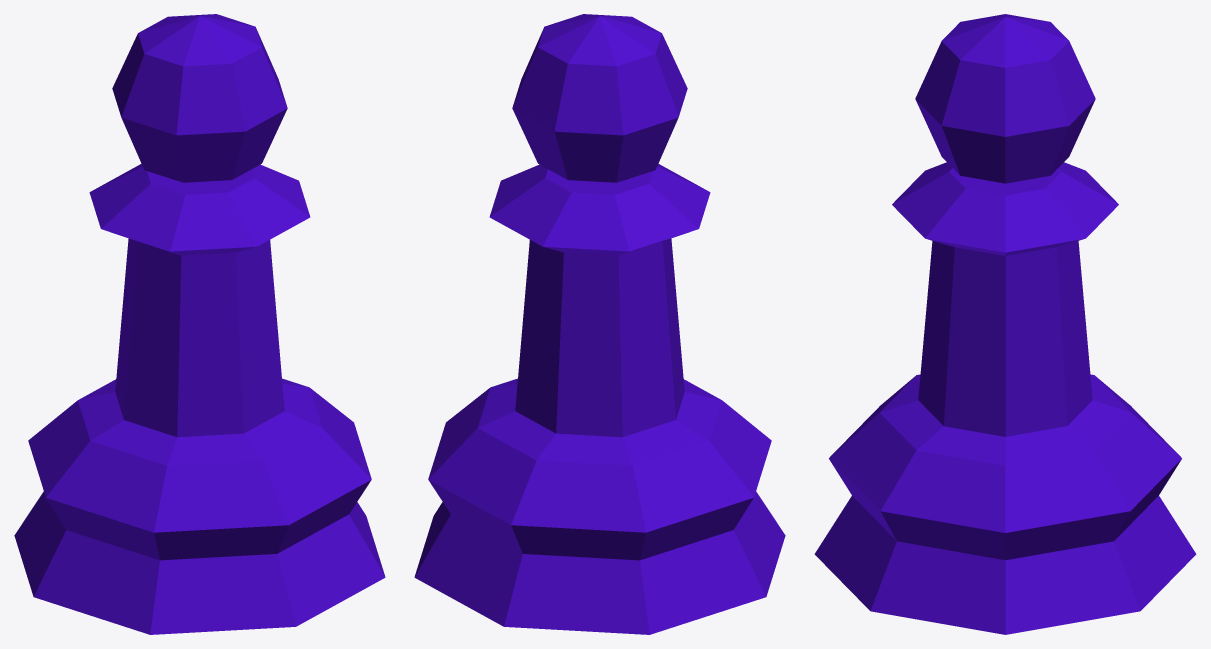
Rendered from ChessPawn.obj.
3 views of the same model, side by side, from view 1: azimuth 30°, elevation 25°; view 2: azimuth 150°, elevation 25°; view 3: azimuth 270°, elevation 25° (orthographic).
Visible parts, largest first — view 1: White_Pawn_1_Cylinder.001; view 2: White_Pawn_1_Cylinder.001; view 3: White_Pawn_1_Cylinder.001.
Boxes of the visible parts, x1,y1,x2,y2 form: White_Pawn_1_Cylinder.001: (14, 14, 385, 634); White_Pawn_1_Cylinder.001: (414, 14, 785, 634); White_Pawn_1_Cylinder.001: (814, 14, 1196, 634).
Size of the model in its own units: 3 by 4.66 by 3.
